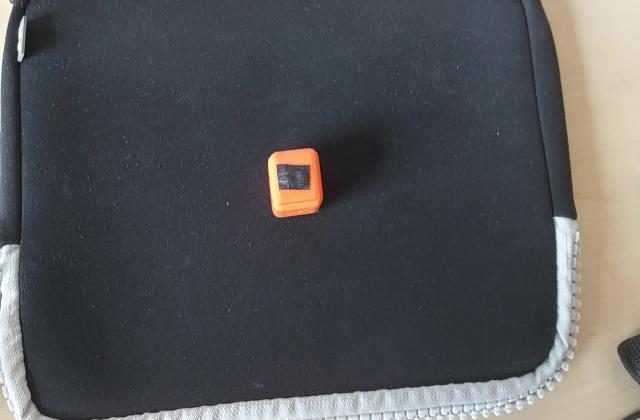black: (272, 160, 314, 196)
sticker: (266, 146, 325, 222)
